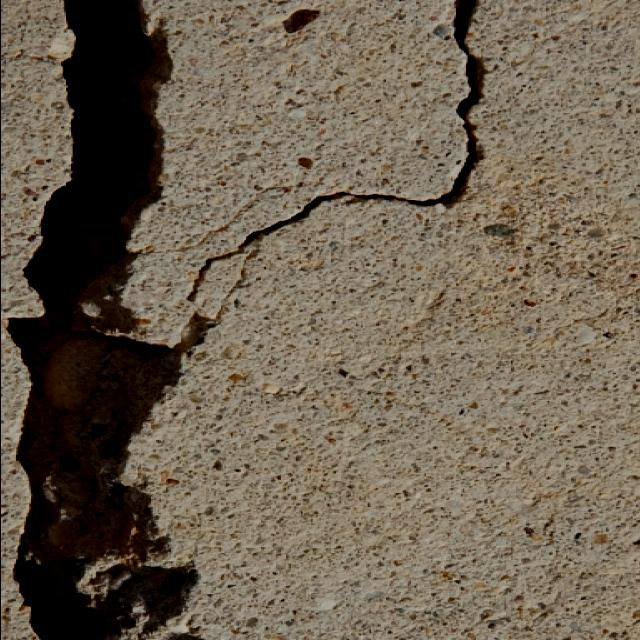crack: (218, 2, 486, 314)
spall: (8, 1, 218, 638)
